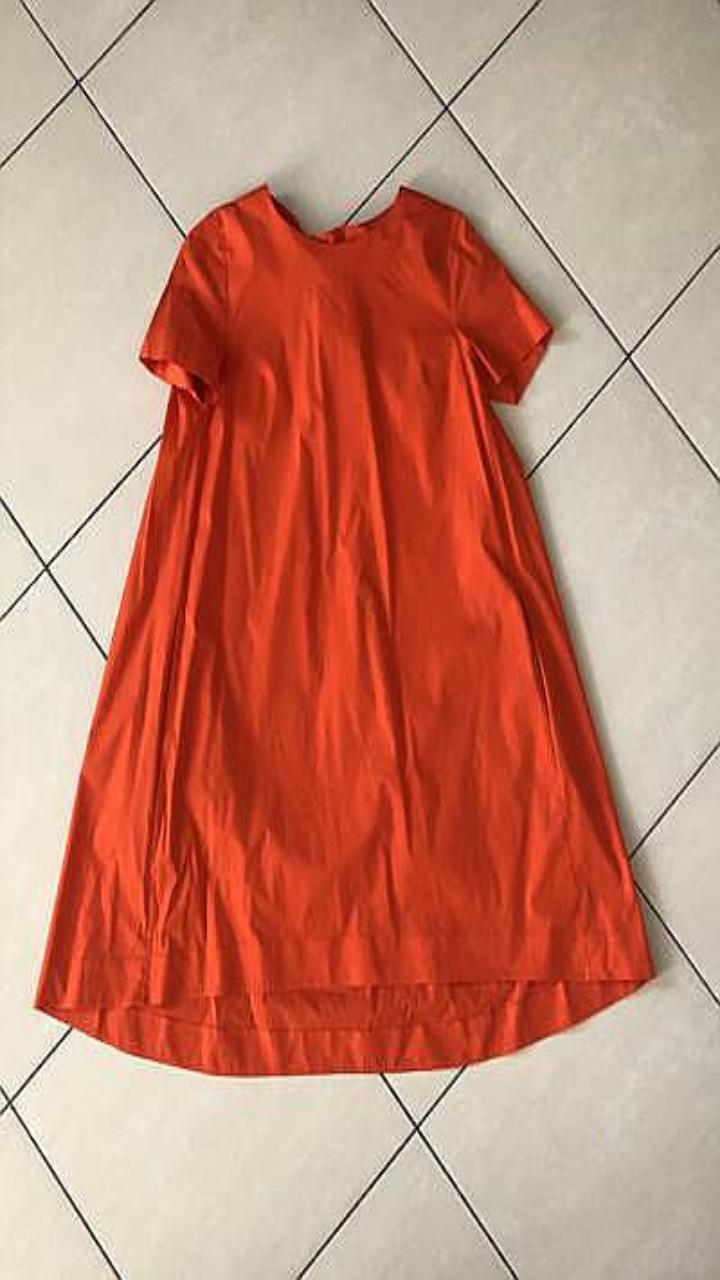Dresses: (34, 183, 654, 1074)
